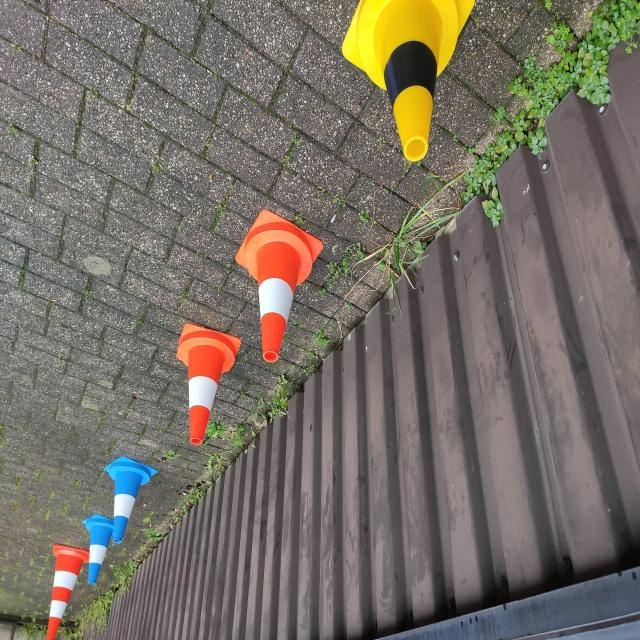Safety Cone: (338, 0, 476, 161), (228, 210, 324, 369), (172, 321, 241, 444), (103, 455, 158, 548), (43, 544, 90, 640), (81, 514, 114, 588)
